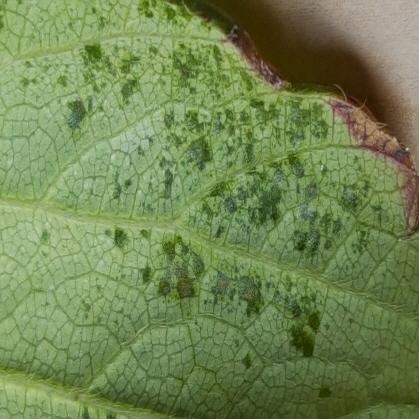Angular Leafspot: (0, 0, 418, 400)
